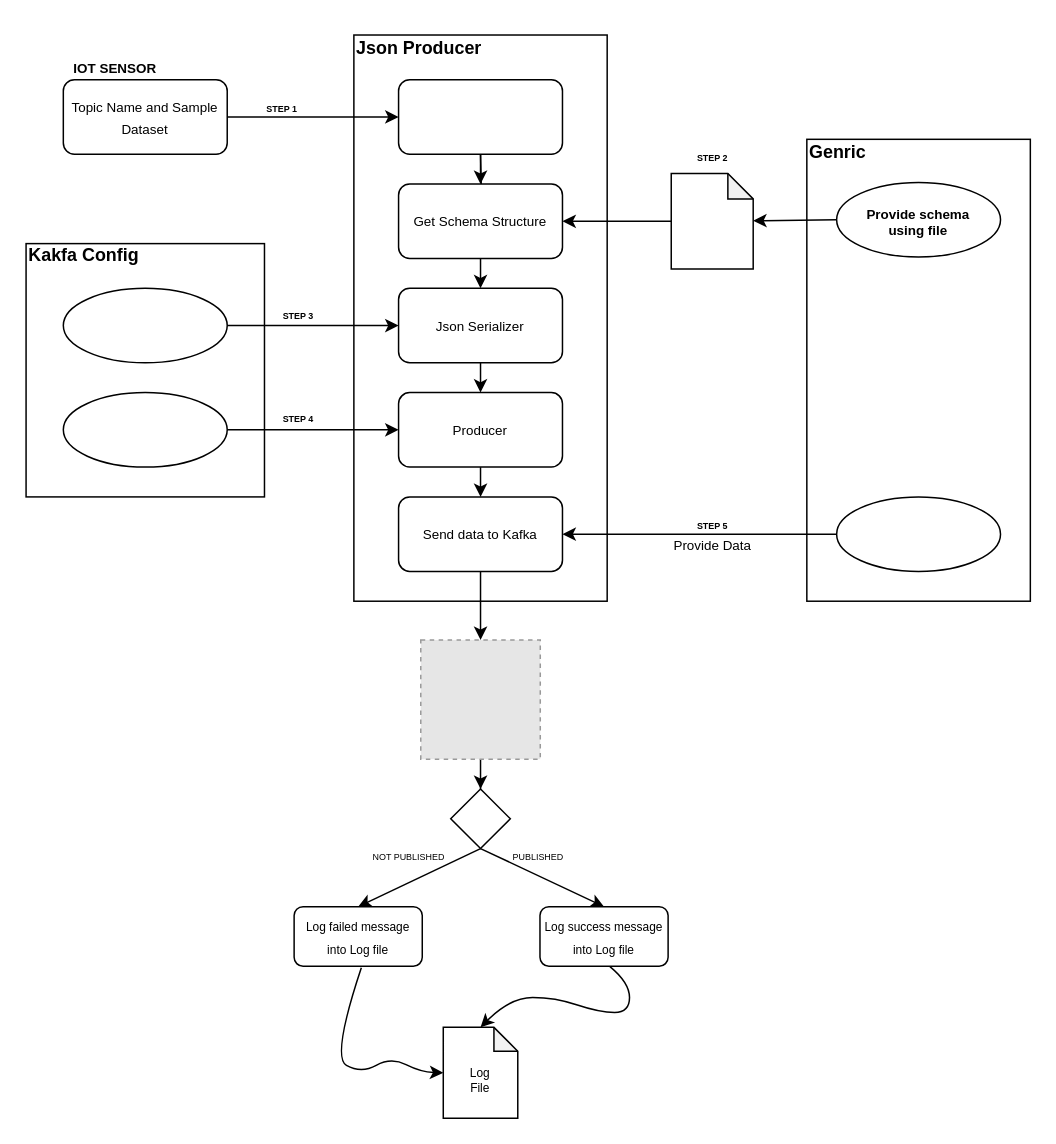
The diagram is 1056 pixels wide and 1144 high, and some of its shapes have lost their labels. Grey dashed boxes stand in for pictures. The shapes that lost their labels are listed below. From the top down, each one's centre as x and y in pixels, then its label:
At (479,116): "Topic name and file location".
At (711,220): "Schema File to define the structure of data".
At (144,325): "schema_config()".
At (144,429): "sasl_conf()".
At (918,533): "Json record generator".
